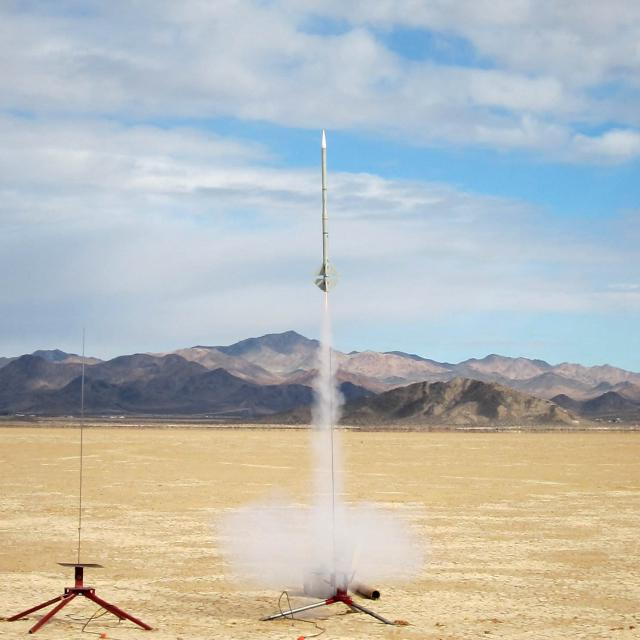Rocket: (312, 129, 341, 293)
